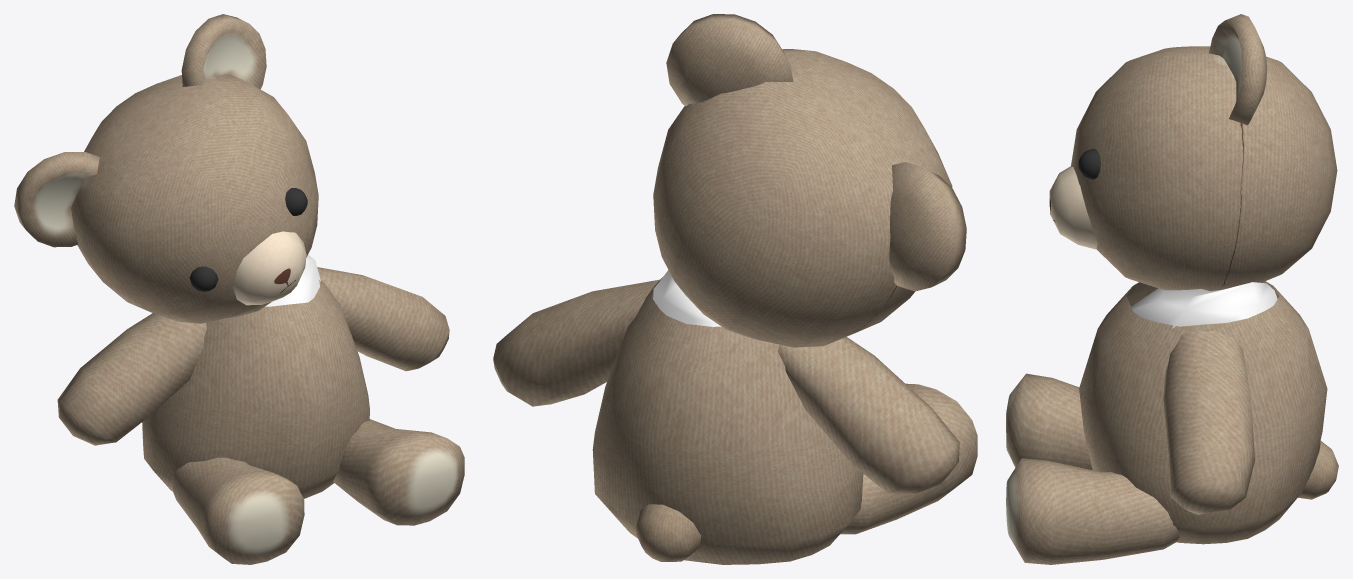
Rendered from bear_doll.fbx.
The picture shows the model from 3 angles, left to right: view 1: azimuth 30°, elevation 25°; view 2: azimuth 150°, elevation 25°; view 3: azimuth 270°, elevation 25°; orthographic projection. The views are drawn at different scales.
Visible parts, largest first — view 1: ChamferCyl001; view 2: ChamferCyl001; view 3: ChamferCyl001.
Boxes of the visible parts, left/top/right/bottom form: ChamferCyl001: left=14, top=14, right=464, bottom=564; ChamferCyl001: left=493, top=14, right=977, bottom=564; ChamferCyl001: left=1006, top=14, right=1338, bottom=564.
Bounding box in the file's own units: 41.13 × 45.17 × 27.45.
